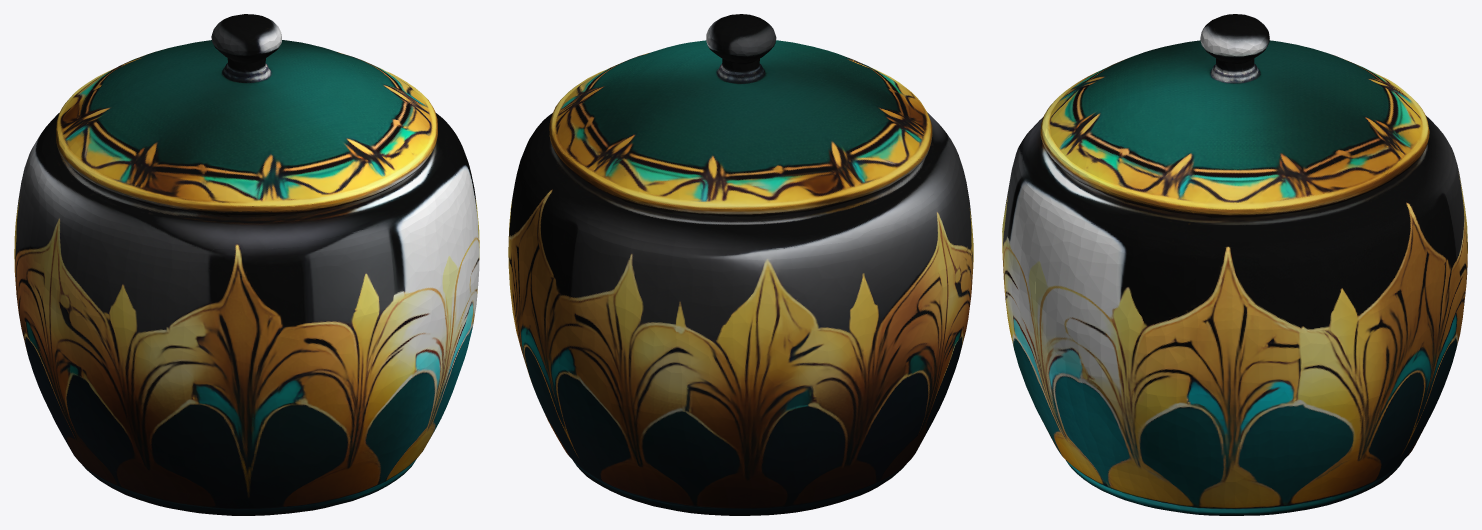
The model's file is ceramic-cookie-jar-art-deco.jpeg.glb.
The picture shows the model from 3 angles, left to right: view 1: azimuth 30°, elevation 25°; view 2: azimuth 150°, elevation 25°; view 3: azimuth 270°, elevation 25°; orthographic projection.
Parts seen in each view (by area): view 1: world; view 2: world; view 3: world.
Boxes of the visible parts, box(x1,y1,x2,y2) form: world: box(14, 14, 479, 515); world: box(508, 14, 973, 515); world: box(1002, 14, 1467, 515).
Bounding box in the file's own units: 0.9969 × 1 × 0.9951.
1 material, 1 textured.
